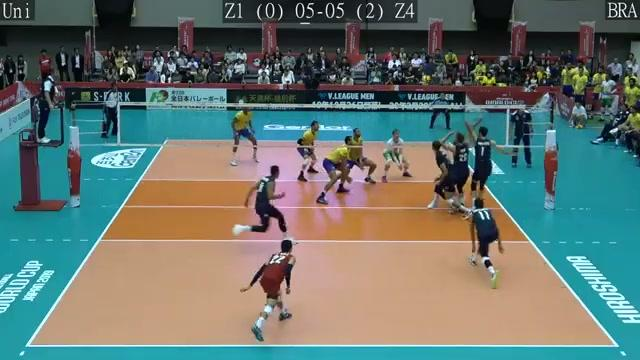ball: (420, 72, 433, 88)
